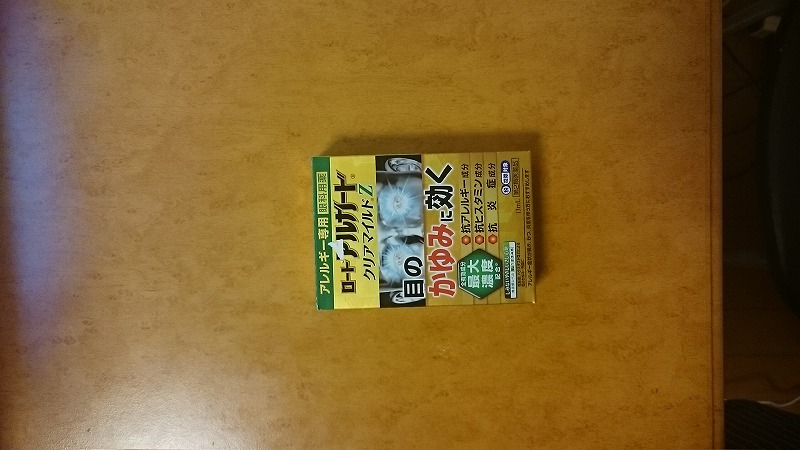C: (306, 148, 548, 315)
